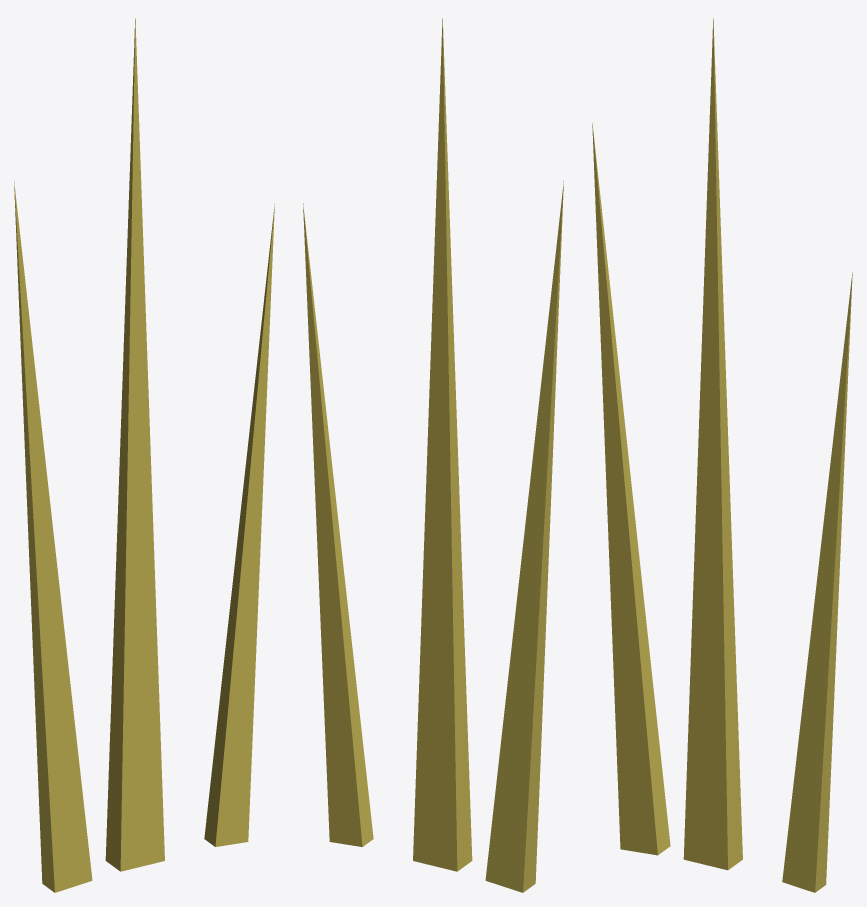
The model's file is Grass_2_Autumn_1_mat.fbx.
3 renders of one model, left to right at view 1: azimuth 30°, elevation 25°; view 2: azimuth 150°, elevation 25°; view 3: azimuth 330°, elevation 25°, orthographic.
Visible parts, largest first — view 1: Grass_2_Autumn_1_mat; view 2: Grass_2_Autumn_1_mat; view 3: Grass_2_Autumn_1_mat.
Boxes of the visible parts, left/top/right/bottom form: Grass_2_Autumn_1_mat: left=14, top=18, right=274, bottom=892; Grass_2_Autumn_1_mat: left=303, top=18, right=563, bottom=892; Grass_2_Autumn_1_mat: left=592, top=18, right=852, bottom=892.
Bounding box in the file's own units: 0.1467 × 0.4583 × 0.0145.
